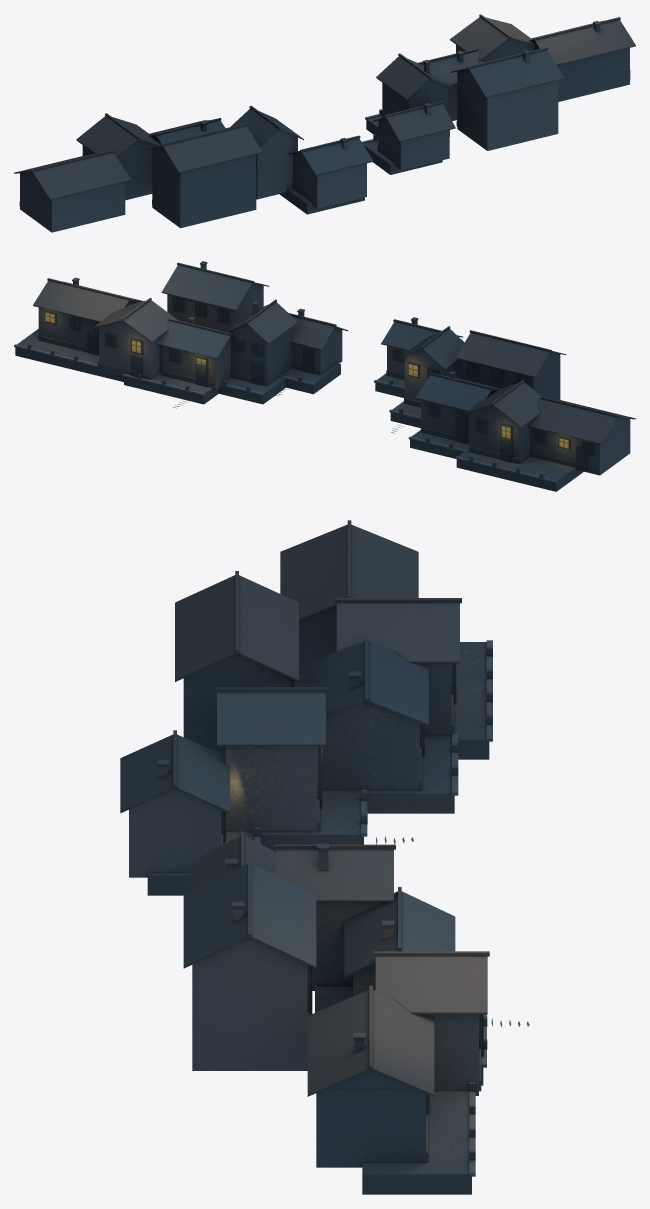
File: far-roofline.glb
3 views of the same model, one above another, from view 1: azimuth 30°, elevation 25°; view 2: azimuth 150°, elevation 25°; view 3: azimuth 270°, elevation 25° (orthographic). The views are drawn at different scales.
Visible parts, largest first — view 1: FarRoofline; view 2: FarRoofline; view 3: FarRoofline.
Part boxes in pixels (x1,y1,x2,y2): FarRoofline: (14,14,635,232); FarRoofline: (14,261,635,491); FarRoofline: (120,520,529,1194).
Bounding box in the file's own units: 45.99 × 6.28 × 14.2.
1 material, 1 textured.
